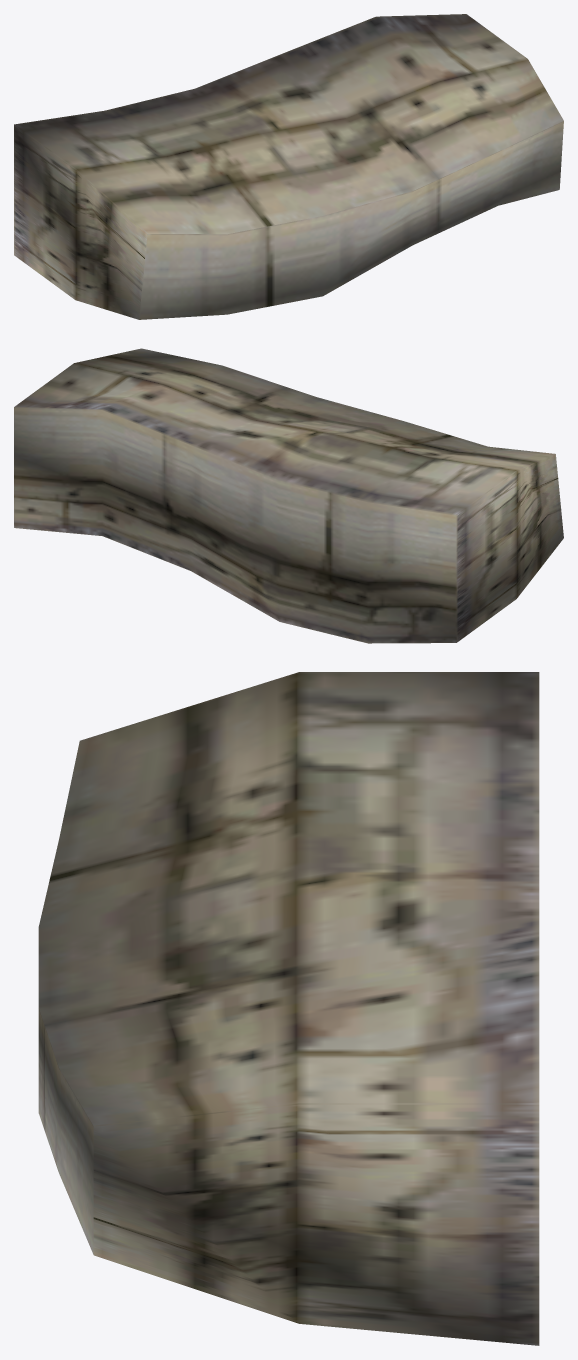
Rendered from Defense_wall_05.obj.
3 renders of one model, top to bottom at view 1: azimuth 30°, elevation 25°; view 2: azimuth 150°, elevation 25°; view 3: azimuth 270°, elevation 25°, orthographic. The views are drawn at different scales.
Visible parts, largest first — view 1: Cover_sandbags_01; view 2: Cover_sandbags_01; view 3: Cover_sandbags_01.
Part boxes in pixels (<box>): Cover_sandbags_01: <box>14,14,563,319</box>; Cover_sandbags_01: <box>14,348,563,643</box>; Cover_sandbags_01: <box>38,672,539,1345</box>.
Size of the model in its own units: 2.17 by 0.7932 by 1.06.
